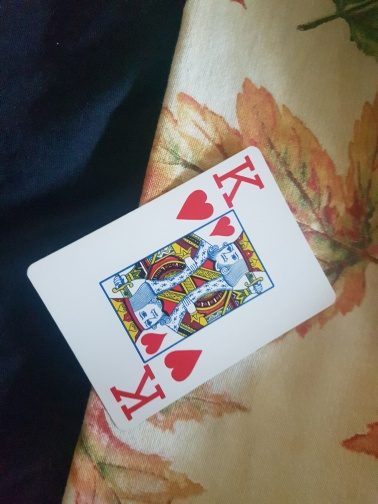king: (26, 146, 337, 426)
